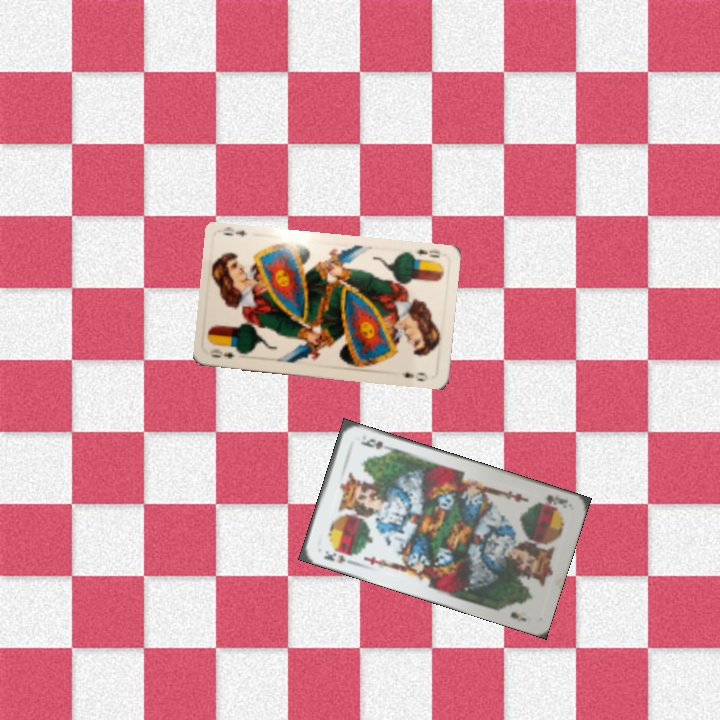EO: (405, 245, 444, 265), (206, 345, 237, 361)
SK: (534, 490, 571, 511), (320, 546, 356, 567)
